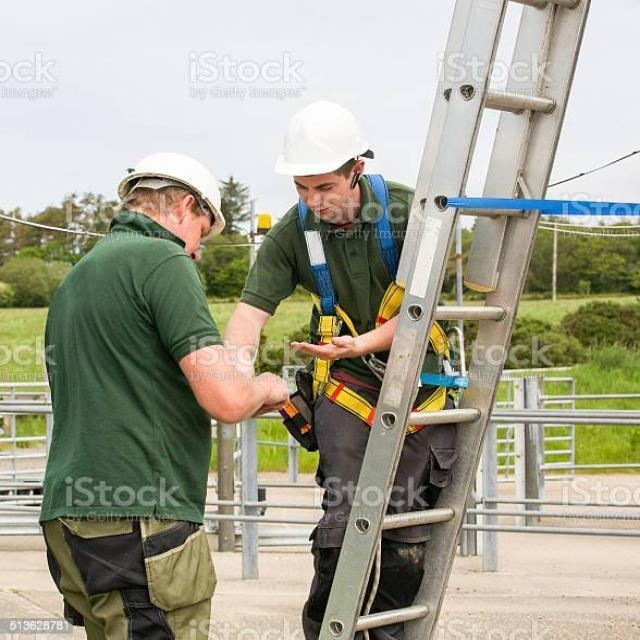Arnes_seguridad: (267, 178, 457, 454)
